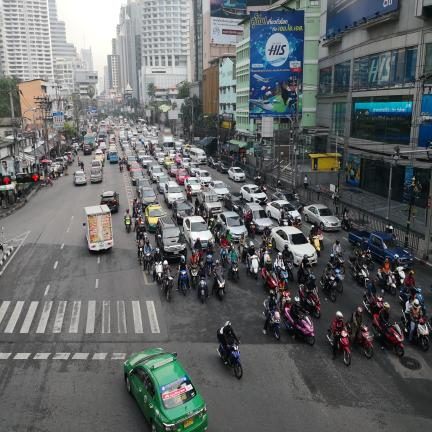bus: (99, 120, 107, 133), (138, 118, 145, 125)
car: (124, 349, 208, 432), (348, 230, 414, 268), (271, 226, 317, 265), (155, 216, 187, 260), (303, 204, 341, 231), (183, 216, 214, 249), (266, 200, 301, 225), (244, 203, 274, 232), (218, 211, 247, 241), (271, 190, 303, 213), (197, 188, 223, 214), (144, 205, 167, 231), (172, 198, 193, 226), (164, 181, 184, 208), (240, 184, 267, 204), (223, 192, 246, 212), (139, 186, 158, 207), (100, 191, 119, 212), (208, 180, 229, 199), (184, 177, 201, 195), (196, 169, 212, 187), (228, 167, 246, 181), (150, 166, 165, 182), (156, 176, 170, 193), (136, 178, 151, 193), (176, 168, 189, 184), (187, 162, 200, 177), (132, 169, 144, 185), (90, 167, 102, 183), (73, 171, 86, 185), (216, 160, 230, 173), (50, 162, 64, 174), (91, 159, 103, 173), (167, 163, 179, 177), (107, 149, 118, 164), (147, 161, 158, 175), (141, 155, 152, 168), (129, 163, 141, 174), (207, 156, 218, 168), (152, 146, 163, 158), (180, 157, 191, 169), (136, 149, 146, 162), (127, 156, 136, 170), (163, 157, 174, 168), (135, 144, 145, 156), (94, 155, 104, 167), (65, 151, 75, 162), (174, 153, 183, 165), (83, 144, 92, 155), (95, 148, 104, 159), (181, 147, 190, 158), (157, 152, 165, 164), (167, 149, 176, 159), (124, 147, 133, 157), (174, 142, 182, 152), (130, 138, 137, 149), (121, 139, 128, 150), (99, 142, 106, 152), (109, 134, 115, 141), (141, 136, 146, 144), (136, 127, 142, 133), (132, 129, 137, 136), (125, 125, 130, 130), (182, 155, 183, 157), (178, 258, 178, 259), (173, 206, 173, 208)
human: (219, 321, 241, 364), (263, 289, 280, 334), (332, 311, 345, 360), (409, 298, 422, 345), (379, 302, 391, 349), (350, 307, 363, 349), (290, 296, 306, 330), (176, 255, 189, 290), (211, 260, 223, 295), (298, 254, 312, 284), (227, 245, 239, 279), (198, 261, 209, 298), (303, 274, 315, 307), (264, 256, 275, 292), (246, 241, 257, 276), (404, 298, 414, 332), (367, 279, 377, 312), (355, 253, 365, 285), (381, 256, 390, 290), (152, 247, 161, 281), (259, 236, 268, 269), (274, 252, 285, 279), (189, 249, 199, 277), (219, 233, 229, 261), (323, 263, 334, 288), (144, 239, 153, 268), (193, 237, 203, 262), (239, 233, 247, 262), (213, 217, 223, 237), (282, 244, 290, 266), (309, 225, 318, 244), (328, 253, 338, 270), (405, 270, 415, 287), (343, 208, 351, 229), (390, 254, 399, 272), (332, 239, 341, 256), (124, 208, 132, 225), (354, 242, 363, 256), (316, 182, 322, 202), (206, 239, 213, 255), (361, 237, 368, 252), (225, 229, 232, 243), (263, 225, 270, 239), (292, 216, 299, 228), (303, 174, 308, 190), (196, 283, 200, 299), (278, 217, 284, 227), (293, 331, 295, 340), (237, 271, 239, 278), (234, 275, 235, 277), (221, 353, 222, 354), (203, 260, 203, 261)
motorbike: (373, 314, 404, 357), (216, 329, 242, 379), (284, 305, 315, 346), (298, 284, 320, 318), (354, 325, 374, 358), (412, 317, 429, 352), (409, 283, 426, 317), (363, 289, 384, 315), (320, 273, 337, 302), (338, 330, 351, 366), (268, 309, 281, 340), (261, 267, 277, 291), (399, 286, 417, 305), (246, 254, 259, 280), (416, 284, 426, 317), (279, 286, 291, 311), (393, 266, 405, 290), (308, 235, 321, 257), (384, 272, 396, 295), (297, 267, 313, 284), (275, 267, 289, 286), (334, 268, 344, 293), (359, 264, 369, 288), (335, 250, 345, 274), (216, 274, 225, 300), (284, 259, 294, 282), (364, 249, 374, 271), (180, 269, 188, 295), (198, 277, 206, 303), (402, 310, 410, 333), (154, 261, 162, 284), (205, 254, 213, 276), (231, 261, 239, 283), (191, 264, 198, 289), (144, 253, 152, 274), (342, 216, 353, 231), (349, 259, 357, 279), (327, 324, 334, 346), (247, 222, 256, 238), (41, 175, 53, 187), (399, 287, 407, 305), (345, 320, 352, 340), (238, 245, 247, 260), (221, 248, 228, 267), (139, 239, 144, 265), (265, 236, 272, 254), (317, 231, 323, 251), (376, 269, 383, 286), (208, 216, 215, 231), (125, 216, 131, 233), (254, 172, 261, 186), (215, 231, 222, 245), (276, 180, 283, 191), (260, 183, 267, 194), (186, 190, 192, 202), (119, 164, 123, 172), (78, 156, 81, 166), (263, 301, 266, 308), (263, 311, 266, 317), (262, 235, 265, 240), (420, 284, 422, 287), (419, 287, 420, 288), (224, 271, 225, 271), (247, 262, 247, 265)
pickup: (348, 231, 414, 268)
taxi: (94, 155, 104, 167), (182, 144, 190, 152), (109, 145, 117, 151), (110, 134, 115, 141)
truck: (83, 204, 113, 250), (158, 132, 174, 155), (84, 133, 94, 148)
van: (189, 147, 206, 164), (109, 151, 118, 163)
